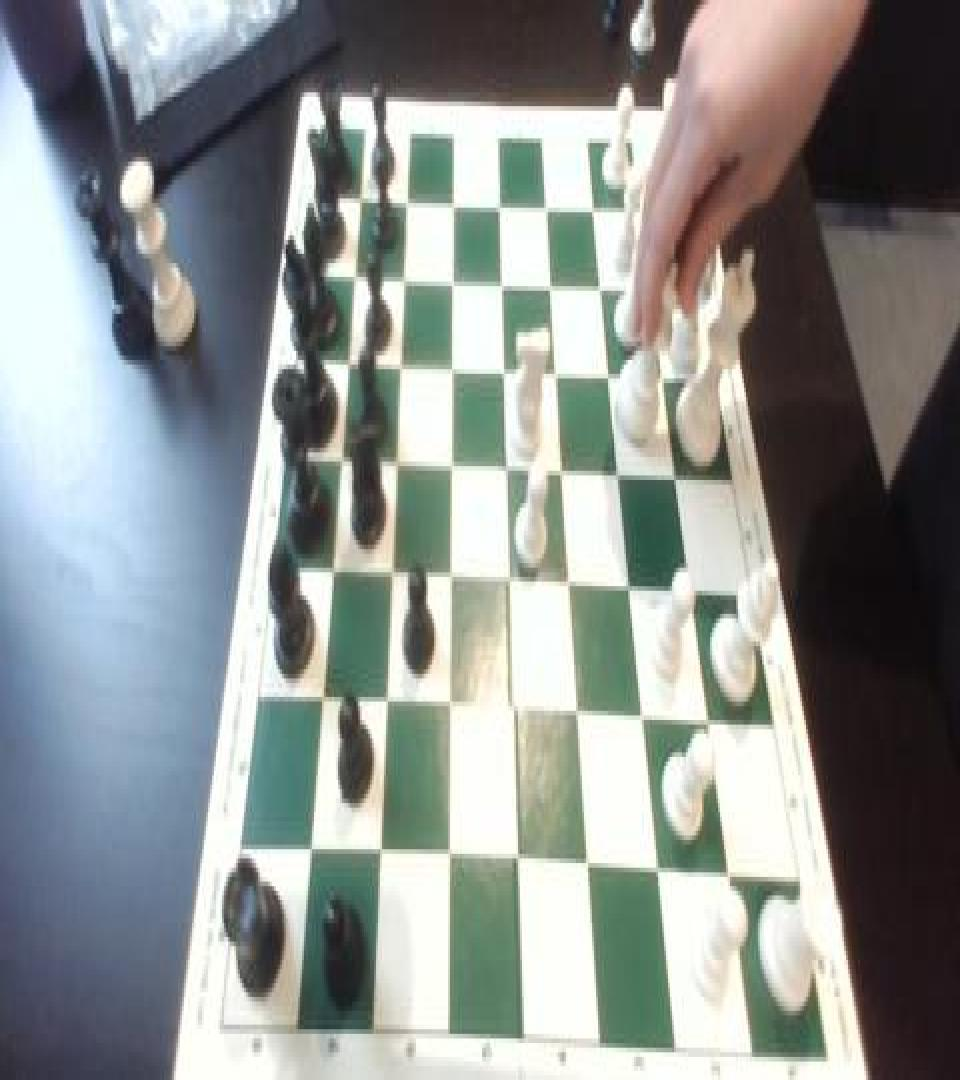xcorner: (441, 692, 457, 730), (683, 574, 699, 612), (445, 260, 461, 298), (446, 182, 462, 220), (493, 184, 509, 222), (370, 840, 386, 877), (440, 843, 456, 880), (510, 847, 526, 884), (649, 854, 665, 891), (719, 858, 735, 895), (377, 690, 393, 727), (506, 697, 522, 734), (571, 699, 587, 736), (700, 706, 716, 743), (323, 556, 339, 593), (383, 558, 399, 595), (443, 563, 459, 600), (623, 573, 639, 610), (331, 443, 347, 480), (444, 450, 460, 487), (500, 453, 516, 490), (556, 454, 572, 491), (613, 457, 629, 494), (669, 459, 685, 496), (339, 344, 355, 381), (392, 346, 408, 383), (445, 351, 461, 388), (497, 353, 513, 390), (656, 360, 672, 397), (346, 256, 362, 293), (396, 258, 412, 295), (495, 263, 511, 300), (645, 270, 661, 307), (352, 178, 368, 215), (399, 180, 415, 217), (541, 187, 557, 224), (588, 189, 604, 226), (301, 836, 317, 872), (579, 852, 595, 888), (313, 686, 329, 722), (635, 702, 651, 738), (503, 566, 519, 602), (563, 568, 579, 604), (388, 448, 404, 484), (550, 356, 566, 392), (603, 358, 619, 394), (545, 266, 561, 302), (595, 268, 611, 304), (635, 192, 651, 228)
